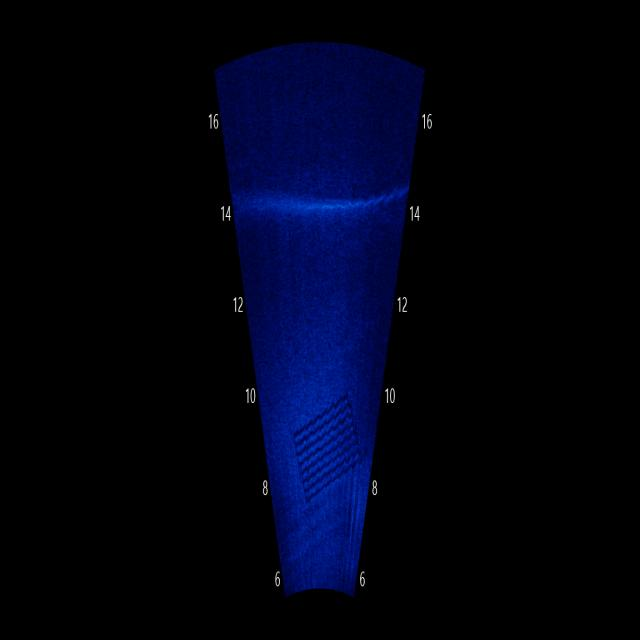square: (288, 391, 370, 500)
